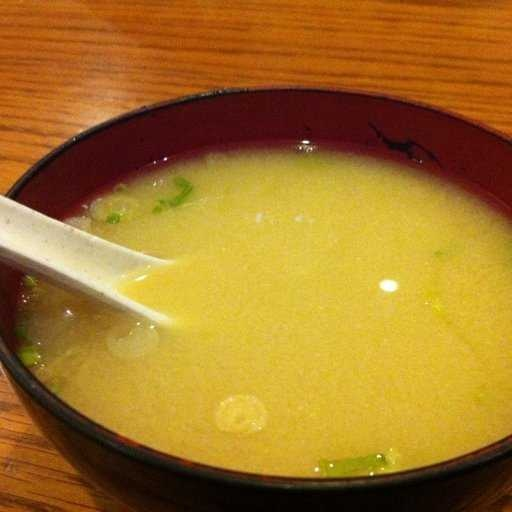soup: (6, 95, 512, 480)
